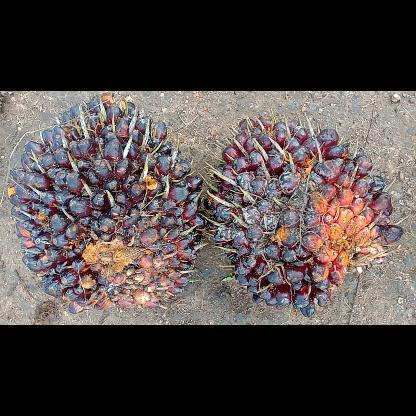Kurang masak: (7, 95, 207, 320), (206, 115, 404, 321)
